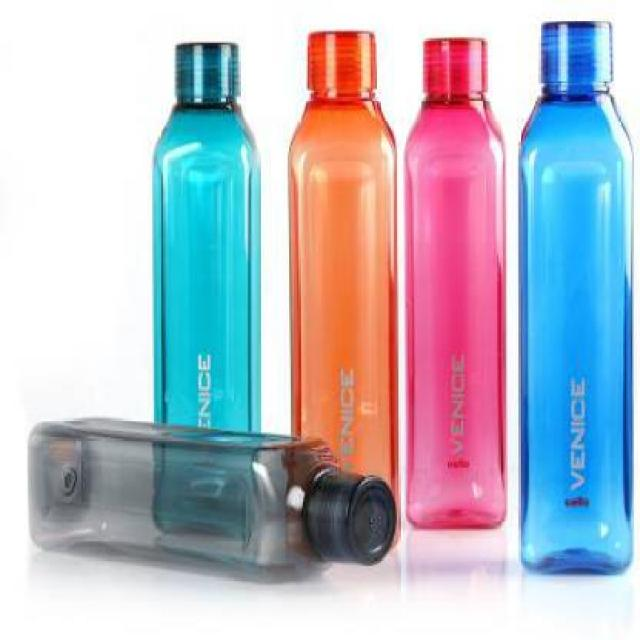Drinking: (120, 22, 286, 626), (504, 3, 638, 622), (288, 9, 397, 557)
